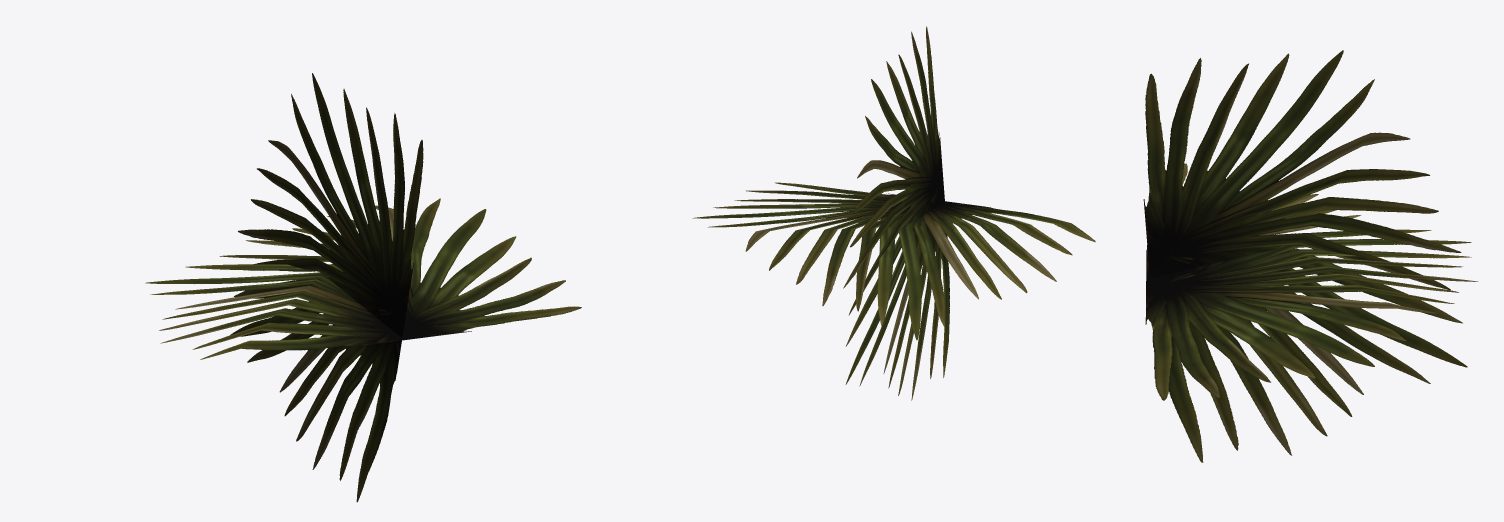
The model's file is MEP_Pandani_02_LOD_02.fbx.
The picture shows the model from 3 angles, left to right: view 1: azimuth 30°, elevation 25°; view 2: azimuth 150°, elevation 25°; view 3: azimuth 270°, elevation 25°; orthographic projection. The views are drawn at different scales.
Visible parts, largest first — view 1: MEP_Pandani_02_LOD_02; view 2: MEP_Pandani_02_LOD_02; view 3: MEP_Pandani_02_LOD_02.
Part boxes in pixels (x1=…): MEP_Pandani_02_LOD_02: x1=145, y1=73, x2=581, y2=502; MEP_Pandani_02_LOD_02: x1=692, y1=26, x2=1095, y2=400; MEP_Pandani_02_LOD_02: x1=1143, y1=50, x2=1478, y2=462.
Bounding box in the file's own units: 2.79 × 2.72 × 1.73.
